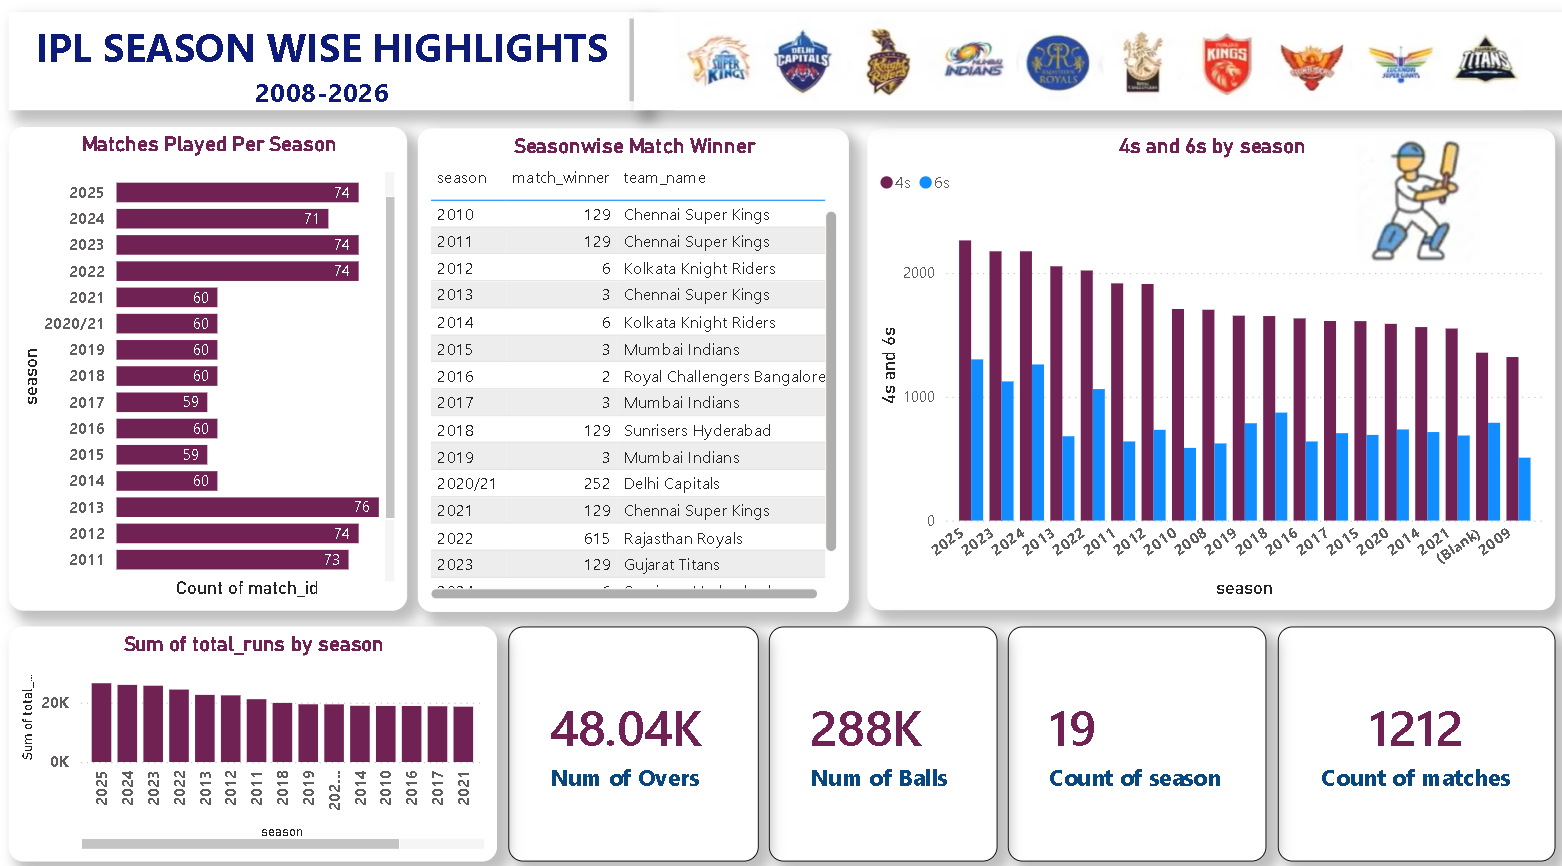

This screenshot's page, from the dashboard's own definition file:
{"tool":"powerbi","page":{"name":"Dashboard","canvas":[1280,720],"ordinal":0},"visuals":[{"type":"textbox","box":[9.1,16.8,519.1,80.3],"z":0},{"type":"barChart","title":"Matches Played Per Season","fields":{"Category":["ipl_matches_data.season"],"Y":["CountNonNull(ipl_matches_data.match_id)"]},"box":[8.8,110.6,325.4,394.5],"z":1000},{"type":"tableEx","title":"Seasonwise Match Winner","fields":{"Values":["ipl_matches_data.season","ipl_matches_data.match_winner","teams_data.team_name"]},"box":[343.1,111.3,352.1,394.8],"z":2000},{"type":"clusteredColumnChart","fields":{"Category":["IPL_finals.season"],"Y":["ball_by_ball_data.4s","ball_by_ball_data.6s"]},"box":[709.4,111.3,561.8,393.5],"z":3000},{"type":"cardVisual","fields":{"Data":["CountNonNull(ipl_matches_data.match_id)"]},"box":[1044.7,517.8,226.5,191.6],"z":4000},{"type":"cardVisual","fields":{"Data":["Count(ipl_matches_data.season)"]},"box":[824.6,517.8,211,191.6],"z":5000},{"type":"cardVisual","fields":{"Data":["ball_by_ball_data.Num of Balls"]},"box":[629.2,517.8,186.4,191.6],"z":6000},{"type":"cardVisual","fields":{"Data":["ball_by_ball_data.Num of Overs"]},"box":[416.8,517.8,204.5,191.6],"z":7000},{"type":"clusteredColumnChart","fields":{"Category":["ipl_matches_data.season"],"Y":["Sum(ball_by_ball_data.total_runs)"]},"box":[9.1,517.8,398.7,191.6],"z":8000},{"type":"image","box":[1101.7,121.7,121.7,101],"z":9000},{"type":"image","box":[519.1,16.8,758.6,80.3],"z":10000}]}

Visuals, with their boxes in screenshot pixels (x1, y1, x2, y2), scaled from the page's 1280x720 canvas onto the 1562x866 screenshot:
textbox: rect(11, 20, 645, 117)
"Matches Played Per Season" barChart: rect(11, 133, 408, 608)
"Seasonwise Match Winner" tableEx: rect(419, 134, 848, 609)
clusteredColumnChart - IPL_finals.season x ball_by_ball_data.4s: rect(866, 134, 1551, 607)
cardVisual - CountNonNull(ipl_matches_data.match_id): rect(1275, 623, 1551, 853)
cardVisual - Count(ipl_matches_data.season): rect(1006, 623, 1264, 853)
cardVisual - ball_by_ball_data.Num of Balls: rect(768, 623, 995, 853)
cardVisual - ball_by_ball_data.Num of Overs: rect(509, 623, 758, 853)
clusteredColumnChart - ipl_matches_data.season x Sum(ball_by_ball_data.total_runs): rect(11, 623, 498, 853)
image: rect(1344, 146, 1493, 268)
image: rect(633, 20, 1559, 117)
